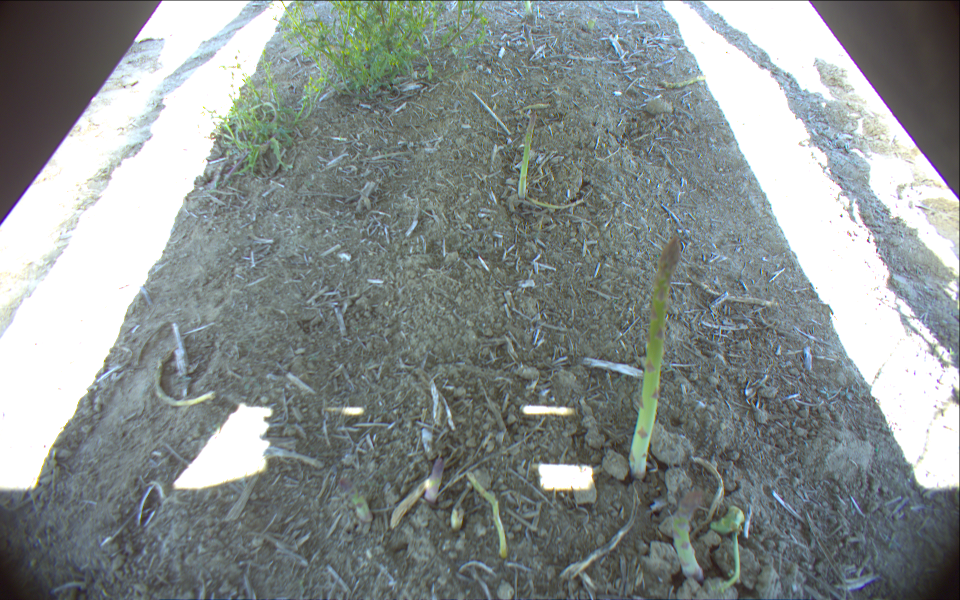aspa: (623, 233, 682, 485), (669, 487, 706, 583), (517, 110, 539, 199)
